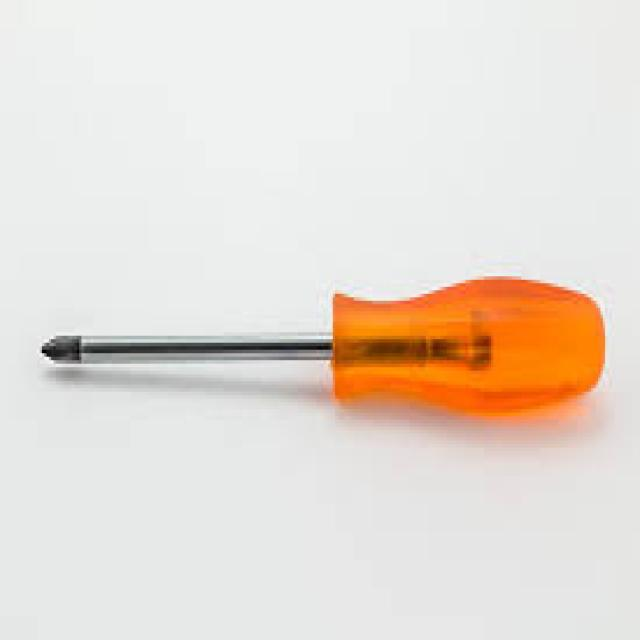Screwdriver: (41, 276, 605, 412)
